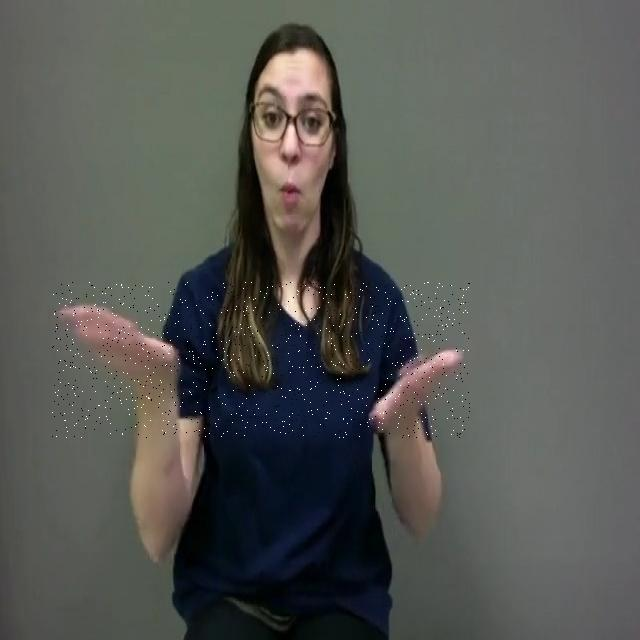what: (52, 282, 470, 438)
